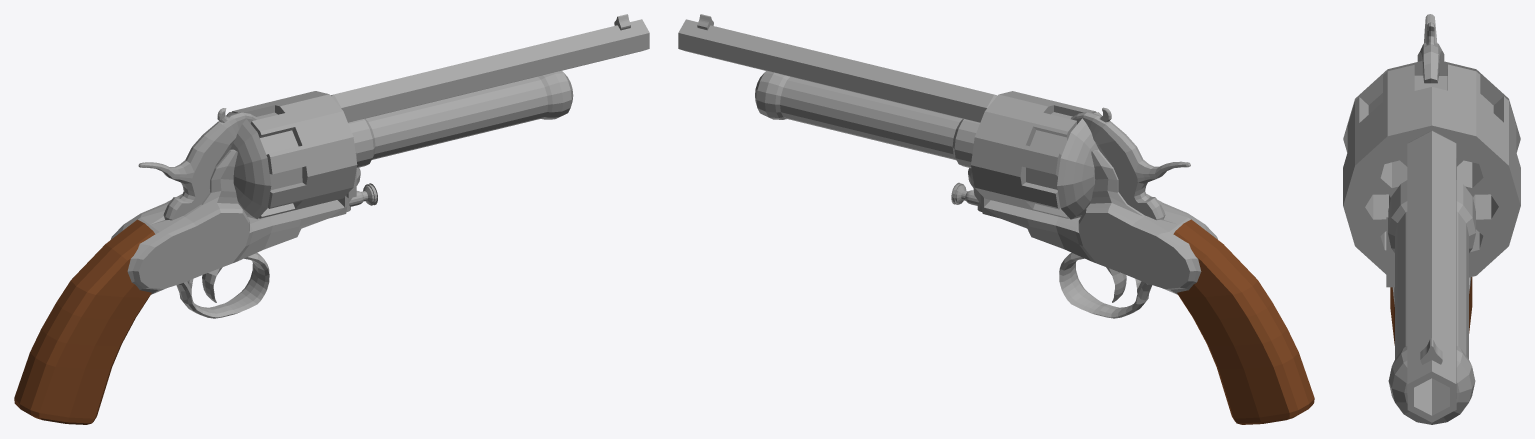
File: RevolverModifierApplied.fbx
The picture shows the model from 3 angles, left to right: view 1: azimuth 30°, elevation 25°; view 2: azimuth 150°, elevation 25°; view 3: azimuth 270°, elevation 25°; orthographic projection. The views are drawn at different scales.
Parts seen in each view (by area): view 1: holder, BulletsBase, Barrel, Barrel.001, LowerBarrel, TriggerTop, BarrelBack, TriiggerProtection; view 2: holder, BulletsBase, Barrel, Barrel.001, LowerBarrel, TriggerTop, BarrelBack, TriiggerProtection; view 3: Barrel.001, Barrel, LowerBarrel, BarrelBack, TriggerTop, Plane, Aim, holder.
Boxes of the visible parts, x1,y1,x2,y2 form: holder: (14, 219, 155, 424); BulletsBase: (110, 149, 360, 294); Barrel: (330, 19, 649, 122); Barrel.001: (231, 91, 357, 218); LowerBarrel: (348, 70, 573, 167); TriggerTop: (138, 108, 258, 220); BarrelBack: (226, 112, 271, 219); TriiggerProtection: (176, 253, 269, 318); holder: (1173, 219, 1314, 424); BulletsBase: (968, 149, 1217, 294); Barrel: (678, 19, 997, 122); Barrel.001: (971, 91, 1096, 218); LowerBarrel: (755, 71, 979, 168); TriggerTop: (1071, 107, 1190, 220); BarrelBack: (1057, 112, 1101, 219); TriiggerProtection: (1059, 252, 1152, 318); Barrel.001: (1343, 64, 1520, 277); Barrel: (1407, 130, 1456, 422); LowerBarrel: (1388, 180, 1475, 424); BarrelBack: (1343, 60, 1520, 152); TriggerTop: (1417, 14, 1444, 83); Plane: (1386, 211, 1394, 287); Aim: (1420, 338, 1442, 364); holder: (1390, 277, 1472, 345).
Bounding box in the file's own units: 463 × 195 × 71.56.
